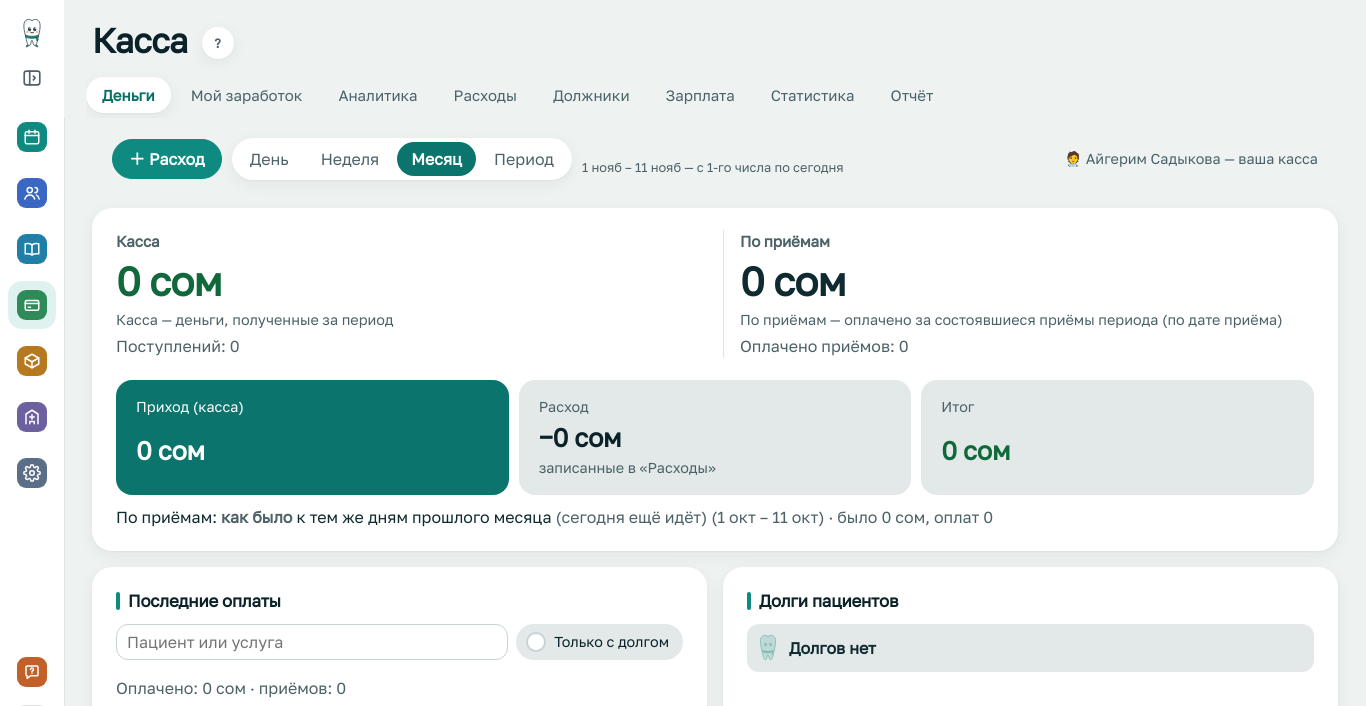
Test: «Мой заработок» с арендой кресла: месяц — на руки после аренды, сегодня — без неё
Expected: the navigation bar named "Разделы" is shown, [8, 113, 56, 497]
Click the link "Мой заработок" at (247, 95), box [191, 86, 302, 104]
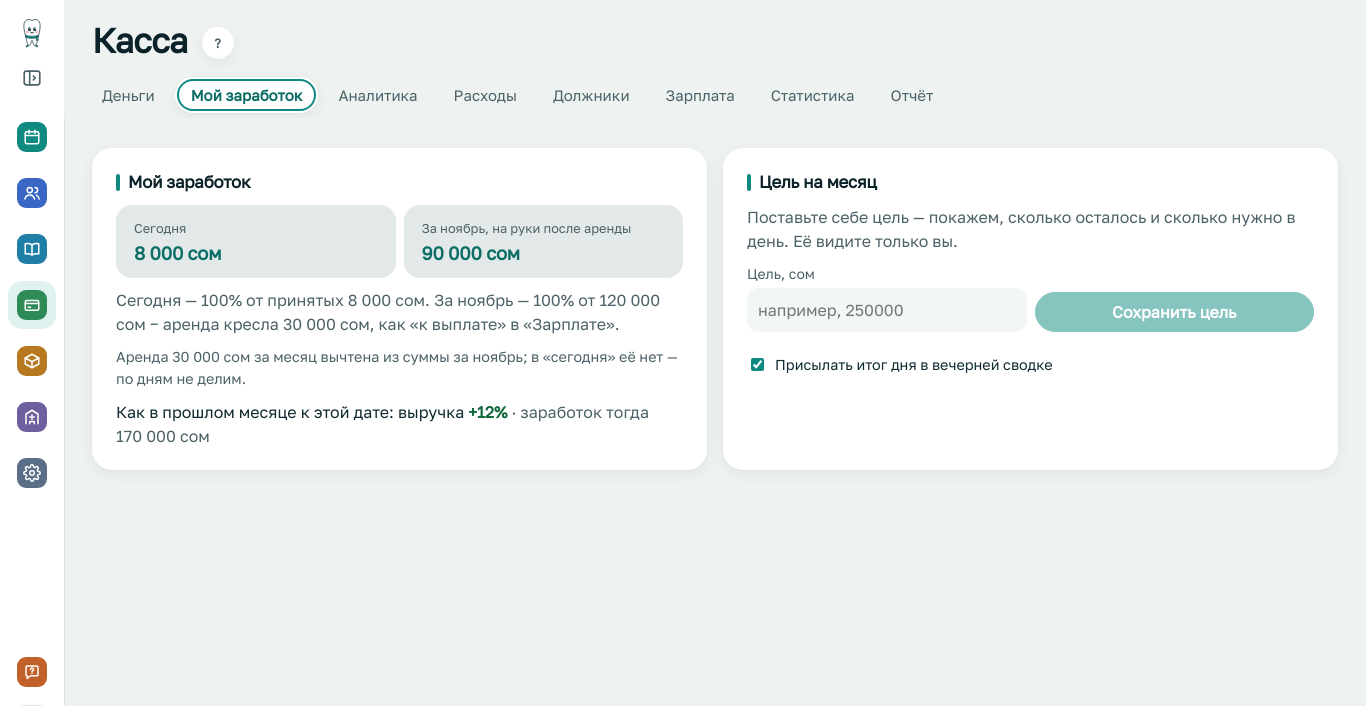
Now the text named "Сегодня" reads "8 000 сом", box [134, 242, 221, 264]
Now the text "За ноябрь, на руки после аренды" is shown, box [422, 219, 665, 238]
Now the text named "За месяц" reads "90 000 сом", box [422, 242, 520, 264]
